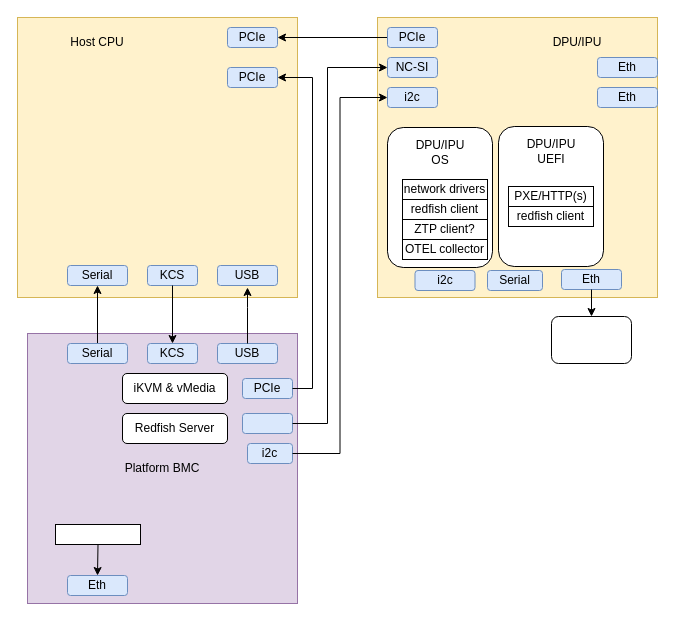
This 675x621 diagram has some shape labels left out. Each missing label, with the centre of its shape:
"1Gb OOB Mgmt" goes at point (591, 340).
"DHCP client" goes at point (97, 534).
"RBT" goes at point (267, 423).
